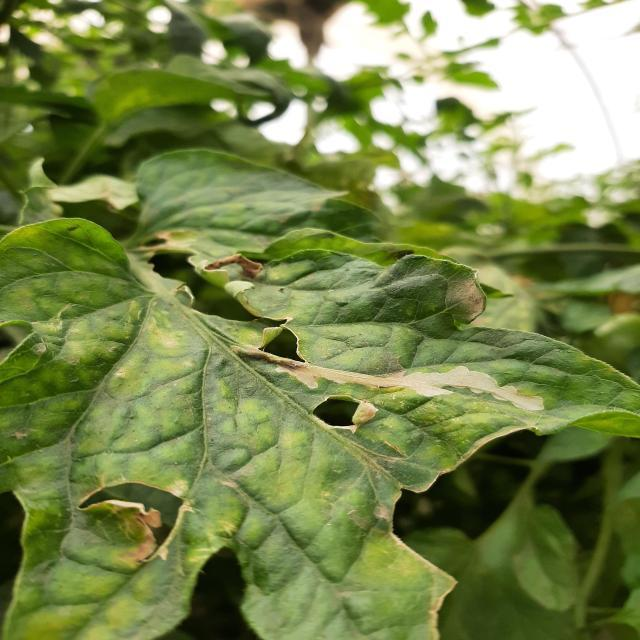Tuta absoluta: (371, 355, 548, 412), (287, 363, 372, 385)
